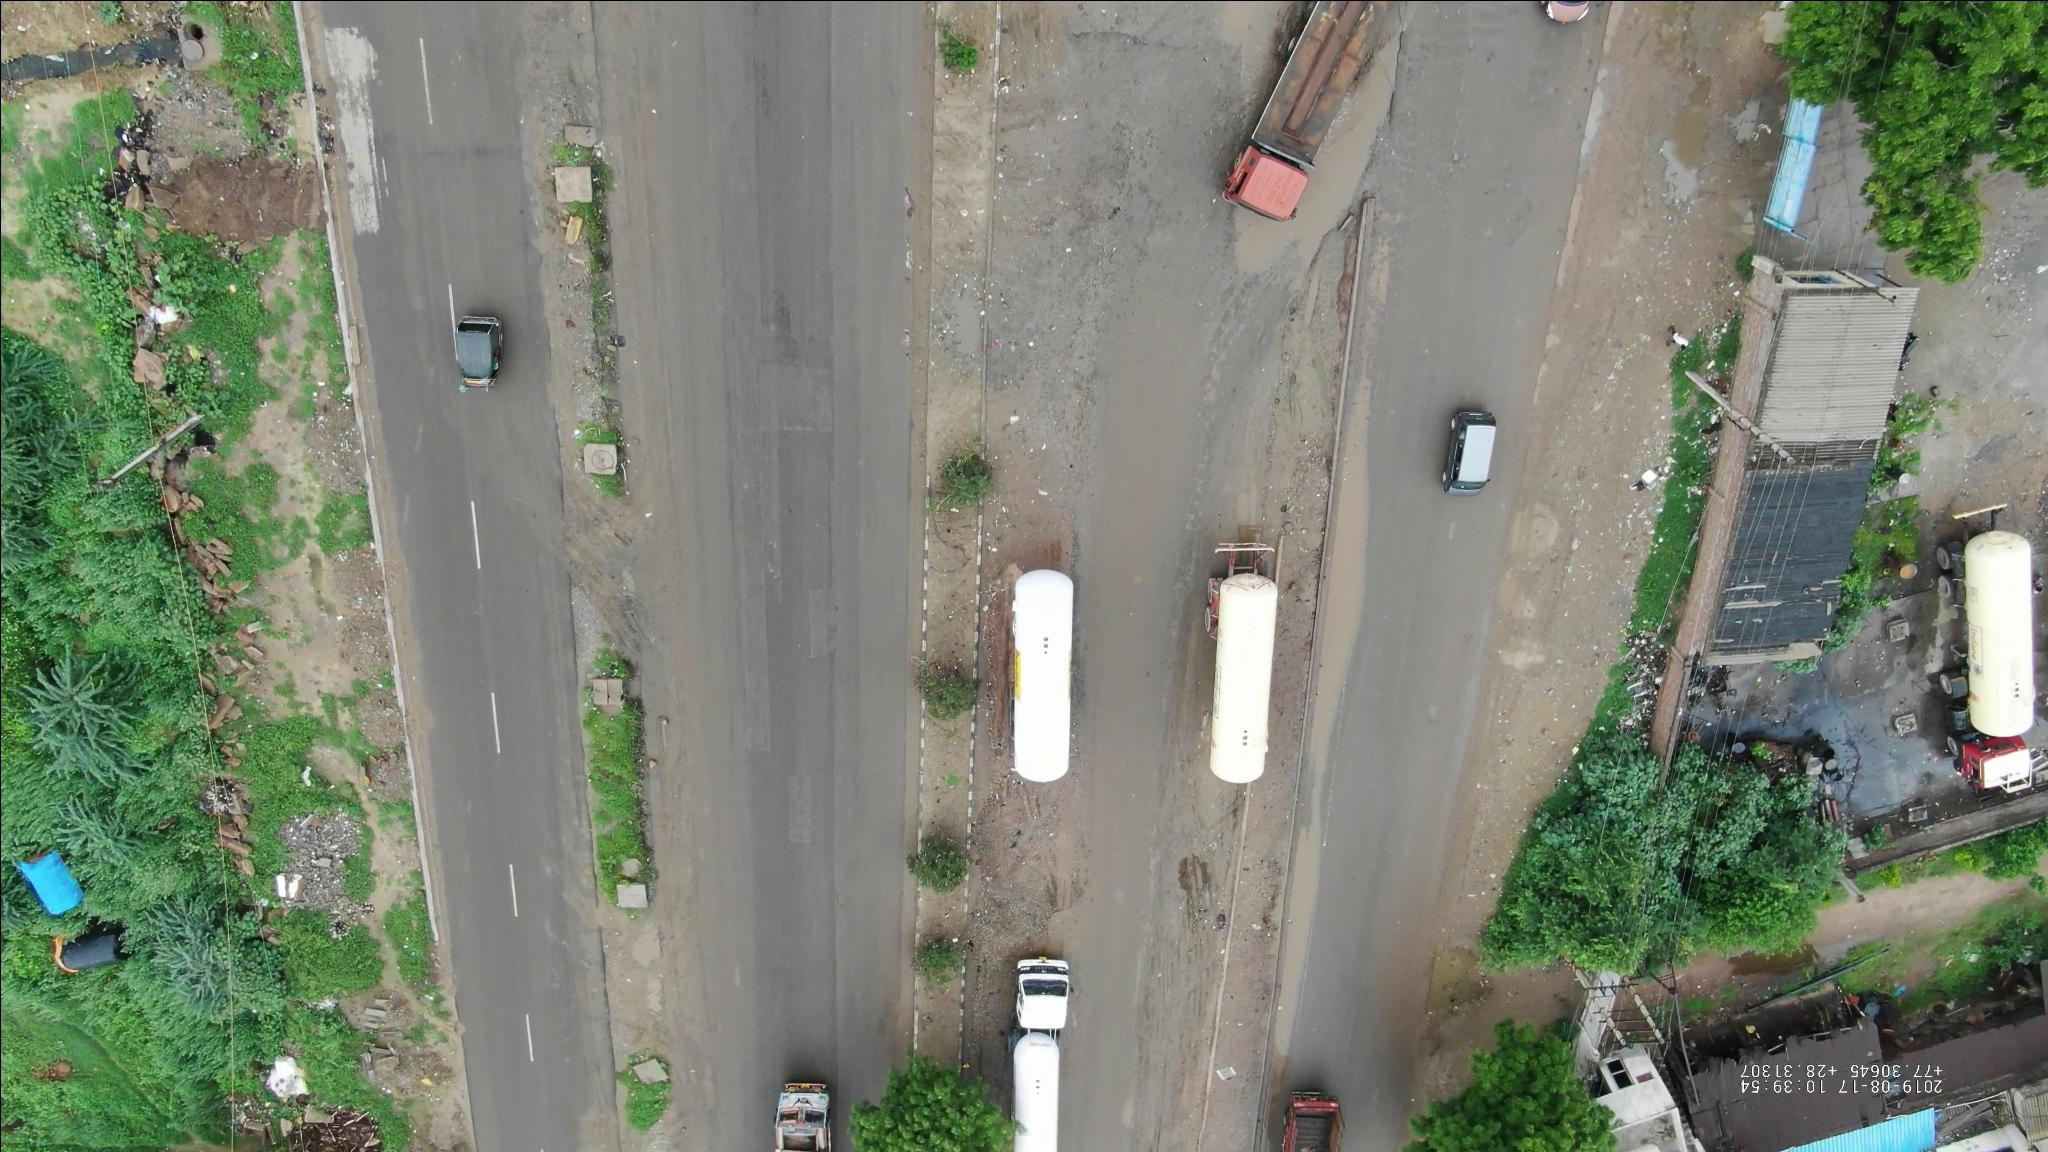Muddy_road: (620, 138, 731, 475), (999, 108, 1129, 390), (1241, 269, 1340, 516), (997, 788, 1103, 940)
Potholes: (630, 928, 695, 1037)
